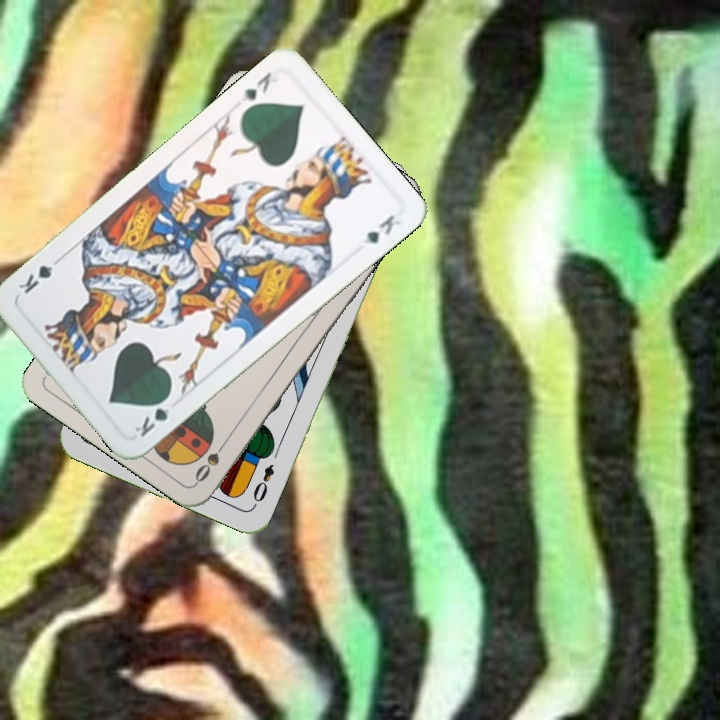EO: (249, 460, 277, 510)
GK: (130, 391, 174, 440), (237, 68, 274, 106)
SO: (190, 434, 232, 485)
